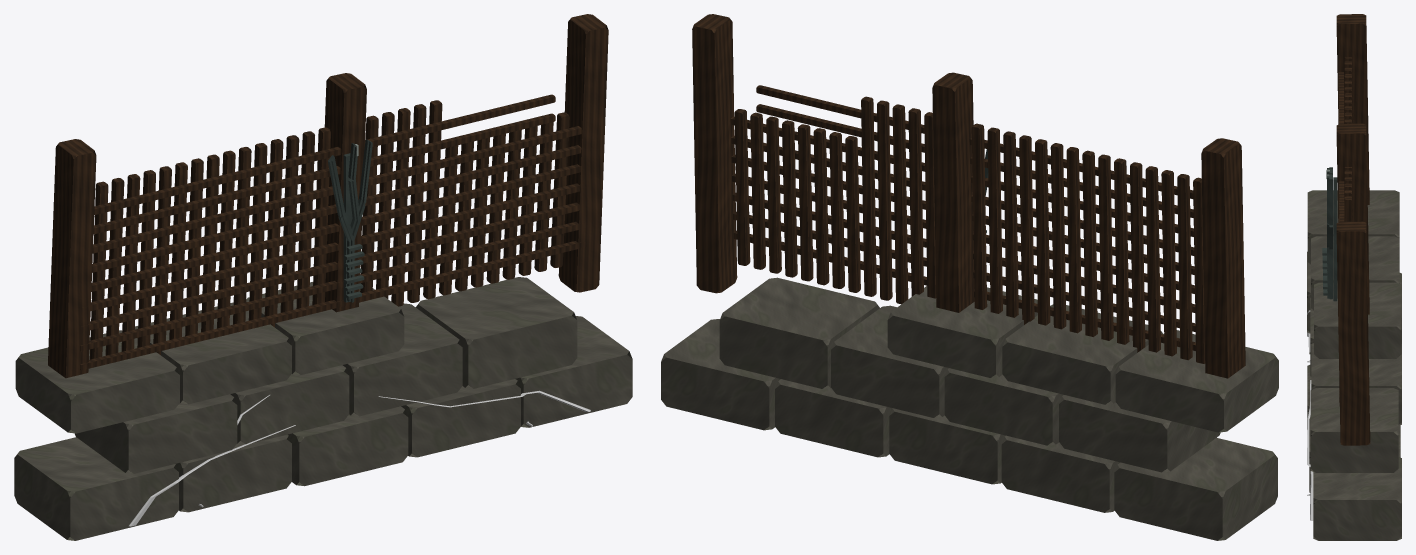
The model's file is cataclysm_fen_wall-lod1.gltf.
3 renders of one model, left to right at view 1: azimuth 30°, elevation 25°; view 2: azimuth 150°, elevation 25°; view 3: azimuth 270°, elevation 25°, orthographic. The views are drawn at different scales.
Parts seen in each view (by area): view 1: cataclysm_fen_wall LOD1 cataclysm_fen_wall, cataclysm_fen_wall LOD1 cataclysm_fen_wall roots attached; view 2: cataclysm_fen_wall LOD1 cataclysm_fen_wall; view 3: cataclysm_fen_wall LOD1 cataclysm_fen_wall, cataclysm_fen_wall LOD1 cataclysm_fen_wall roots attached.
Part boxes in pixels (x1,y1,x2,y2): cataclysm_fen_wall LOD1 cataclysm_fen_wall: [14, 14, 632, 540]; cataclysm_fen_wall LOD1 cataclysm_fen_wall roots attached: [129, 390, 590, 526]; cataclysm_fen_wall LOD1 cataclysm_fen_wall: [661, 14, 1278, 540]; cataclysm_fen_wall LOD1 cataclysm_fen_wall: [1307, 14, 1401, 540]; cataclysm_fen_wall LOD1 cataclysm_fen_wall roots attached: [1307, 310, 1313, 520].
Bounding box in the file's own units: 2.73 × 1.71 × 0.4792.
